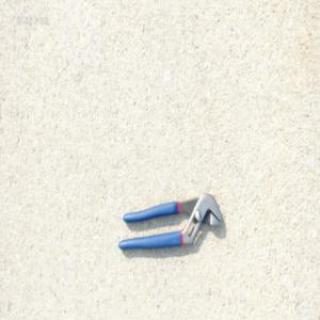Pliertrack_idkeyframe: (117, 190, 226, 249)
